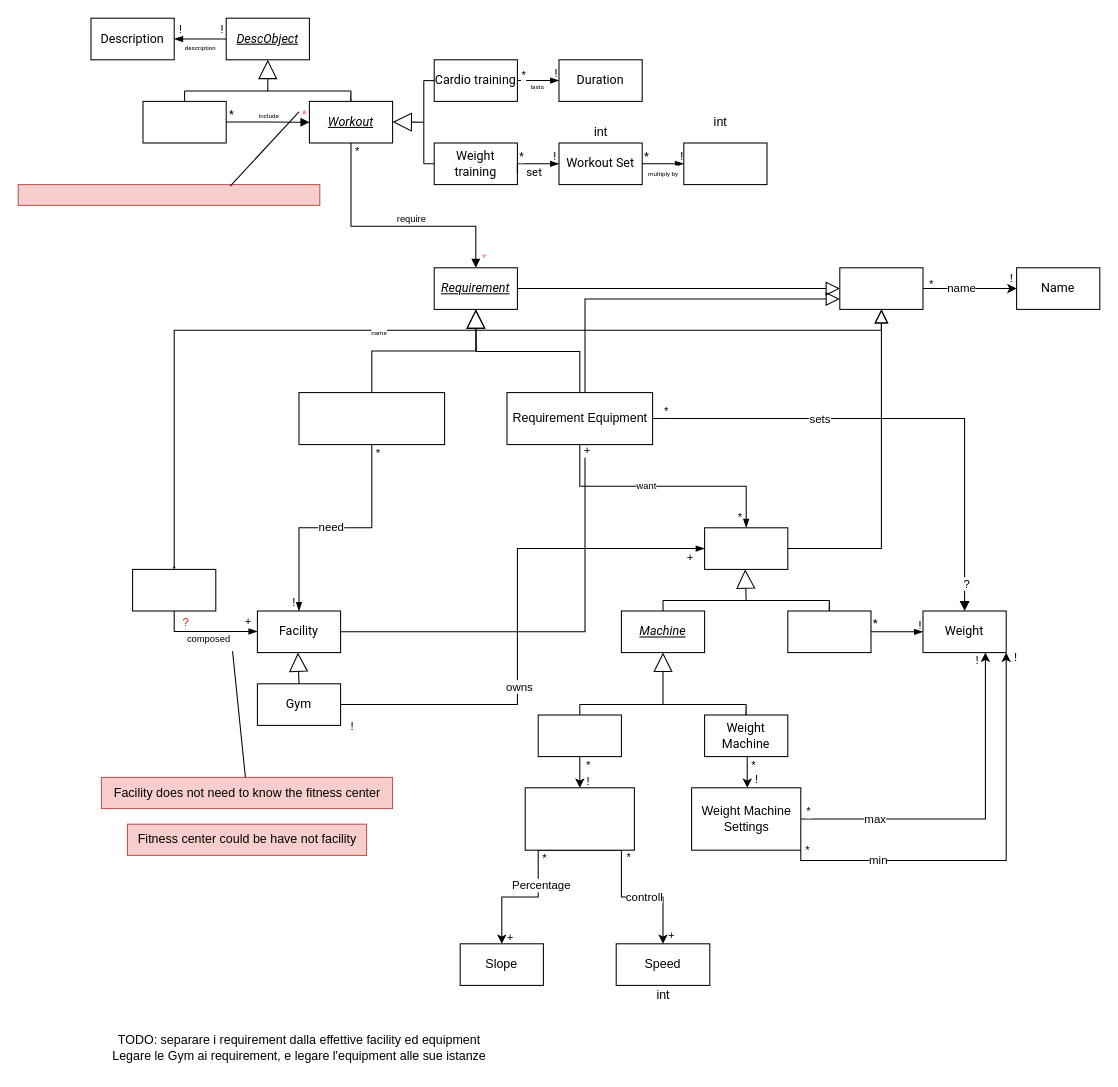
This 1118x1087 diagram has some shape labels left out. The centre of each missing label's shape, as x and y in pixels:
"Cardio Machine" goes at (579,735).
"Cardio Machine Settings" goes at (579,818).
"Equipment" goes at (746,548).
"Fitness Center" goes at (174,589).
"Item" goes at (829,631).
"NamedObject" goes at (881,288).
"need to change + to * --> easier to implement scala" goes at (168,194).
"Repetition" goes at (725,163).
"Requirement Facility" goes at (371,418).
"Workout Daily Schedule" goes at (184,121).
